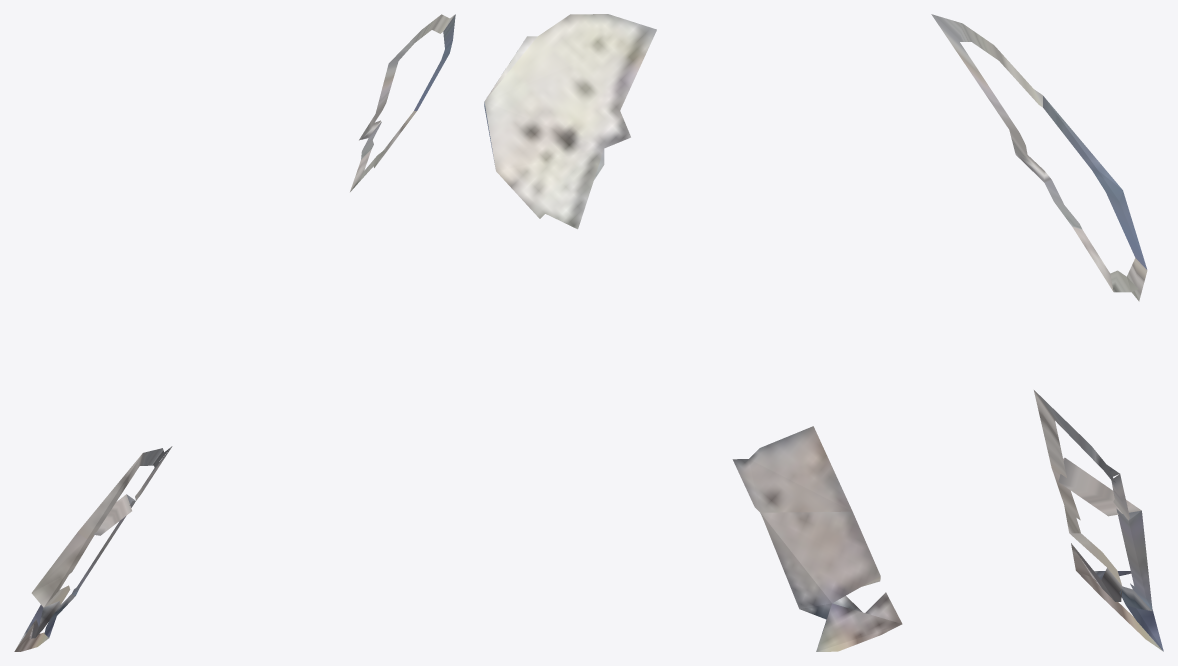
3 views of the same model, side by side, from view 1: azimuth 30°, elevation 25°; view 2: azimuth 150°, elevation 25°; view 3: azimuth 270°, elevation 25° (orthographic). The views are drawn at different scales.
Size of the model in its own units: 53.28 by 66.17 by 16.63.
Materials: 1 (1 with a texture image).
